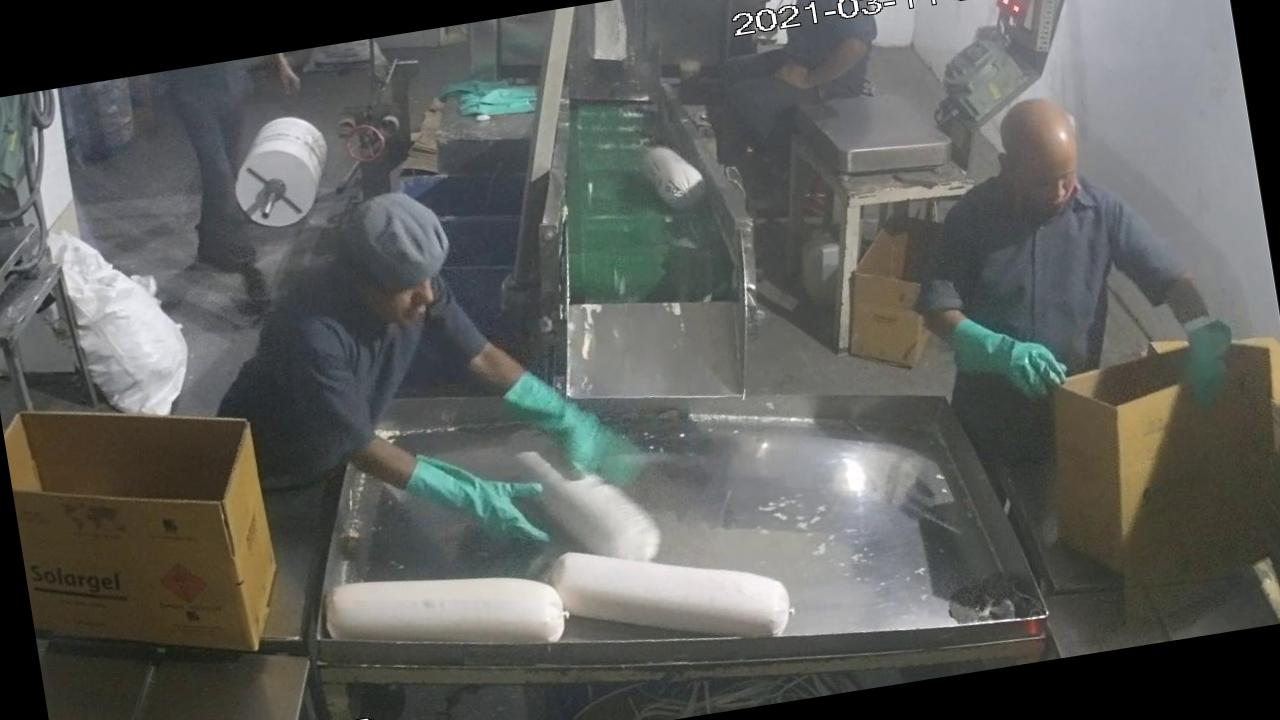Gloves: (391, 430, 579, 594), (502, 343, 644, 507), (942, 276, 1072, 411), (1156, 306, 1244, 422)
No-gloves: (742, 27, 898, 109)
